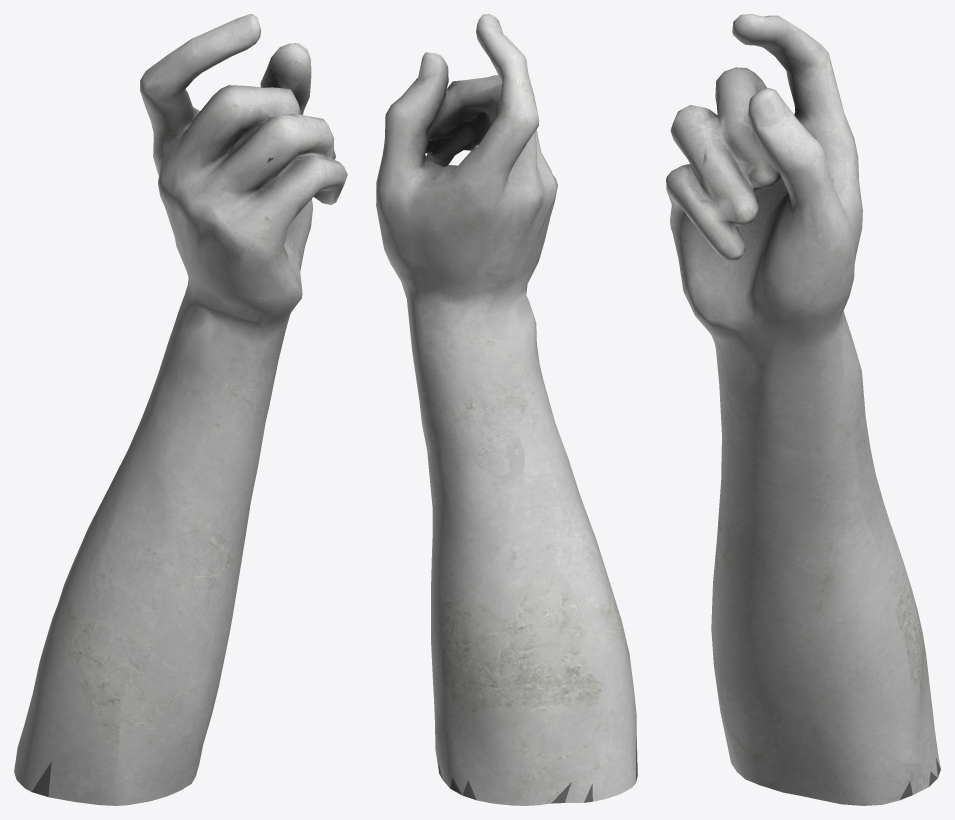
Rendered from Statue_hand_lo.glb.
3 renders of one model, left to right at view 1: azimuth 30°, elevation 25°; view 2: azimuth 150°, elevation 25°; view 3: azimuth 270°, elevation 25°, orthographic. The views are drawn at different scales.
Parts seen in each view (by area): view 1: statue_hand_lo; view 2: statue_hand_lo; view 3: statue_hand_lo.
Part boxes in pixels (box(x1,y1,x2,y2)): statue_hand_lo: box(14, 14, 347, 805); statue_hand_lo: box(376, 14, 637, 805); statue_hand_lo: box(666, 14, 940, 805).
Size of the model in its own units: 0.8468 by 2.24 by 0.7009.
Materials: 1 (1 with a texture image).
